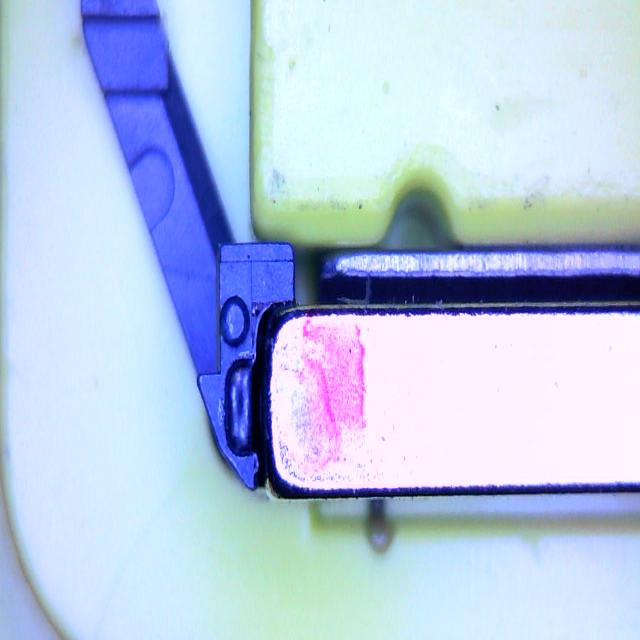over: (224, 354, 264, 458)
